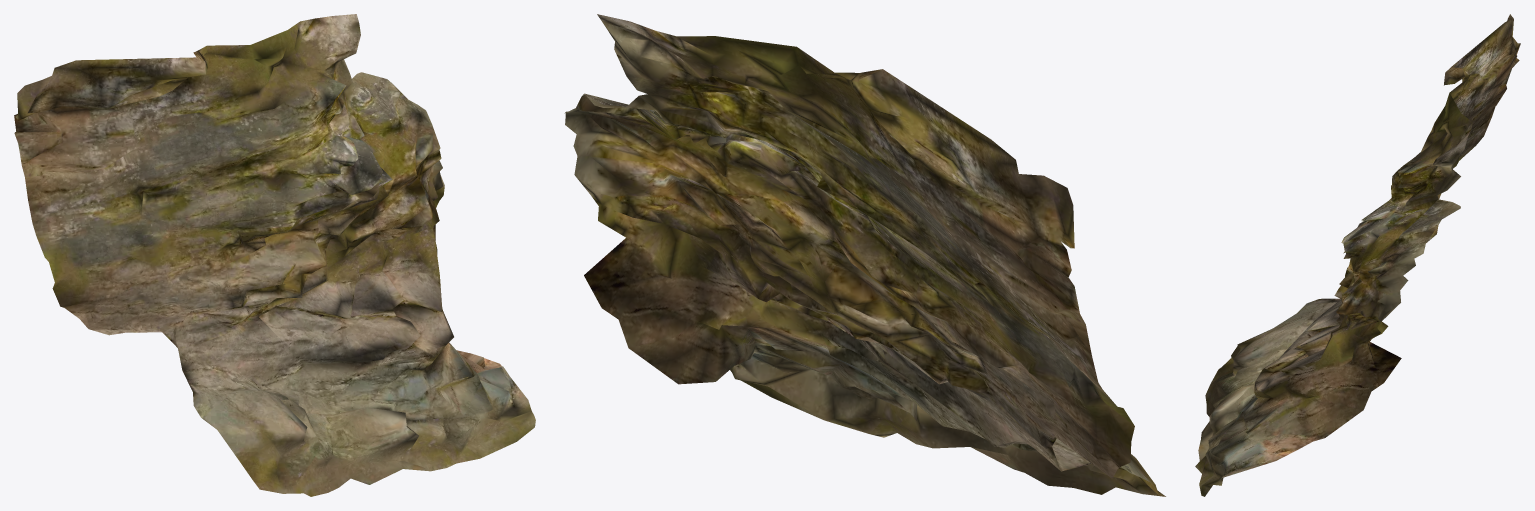
Rendered from rock_face_02_far.glb.
3 views of the same model, side by side, from view 1: azimuth 30°, elevation 25°; view 2: azimuth 150°, elevation 25°; view 3: azimuth 270°, elevation 25° (orthographic). The views are drawn at different scales.
Parts seen in each view (by area): view 1: rock_face_02; view 2: rock_face_02; view 3: rock_face_02.
Part boxes in pixels (x1,y1,x2,y2): rock_face_02: (14, 14, 535, 496); rock_face_02: (564, 14, 1165, 496); rock_face_02: (1195, 14, 1520, 496).
Bounding box in the file's own units: 2.71 × 2.47 × 2.13.
Materials: 1 (1 with a texture image).
